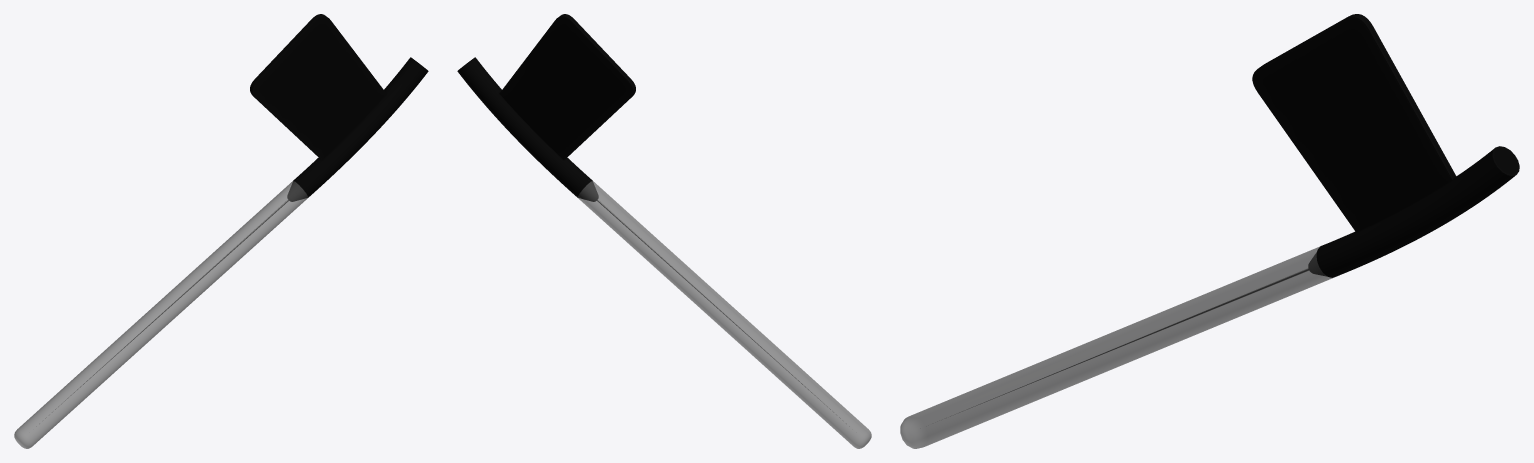
File: 一次性采血针2.glb
3 renders of one model, left to right at view 1: azimuth 30°, elevation 25°; view 2: azimuth 150°, elevation 25°; view 3: azimuth 330°, elevation 25°, orthographic. The views are drawn at different scales.
Visible parts, largest first — view 1: Box001, Cylinder005, Line003, Cylinder006; view 2: Box001, Cylinder005, Line003, Cylinder006; view 3: Box001, Cylinder005, Line003, Cylinder006.
Part boxes in pixels (x1=…): Box001: x1=250, y1=14, x2=386, y2=159; Cylinder005: x1=14, y1=181, x2=307, y2=448; Line003: x1=293, y1=57, x2=428, y2=197; Cylinder006: x1=46, y1=199, x2=288, y2=417; Box001: x1=499, y1=14, x2=635, y2=159; Cylinder005: x1=578, y1=181, x2=871, y2=448; Line003: x1=457, y1=57, x2=592, y2=197; Cylinder006: x1=597, y1=199, x2=839, y2=417; Box001: x1=1252, y1=14, x2=1456, y2=232; Cylinder005: x1=900, y1=246, x2=1334, y2=448; Line003: x1=1316, y1=146, x2=1519, y2=277; Cylinder006: x1=949, y1=268, x2=1308, y2=416.
Size of the model in its own units: 0.00512 by 0.0043 by 0.00025.
Materials: 1 (1 with a texture image).
